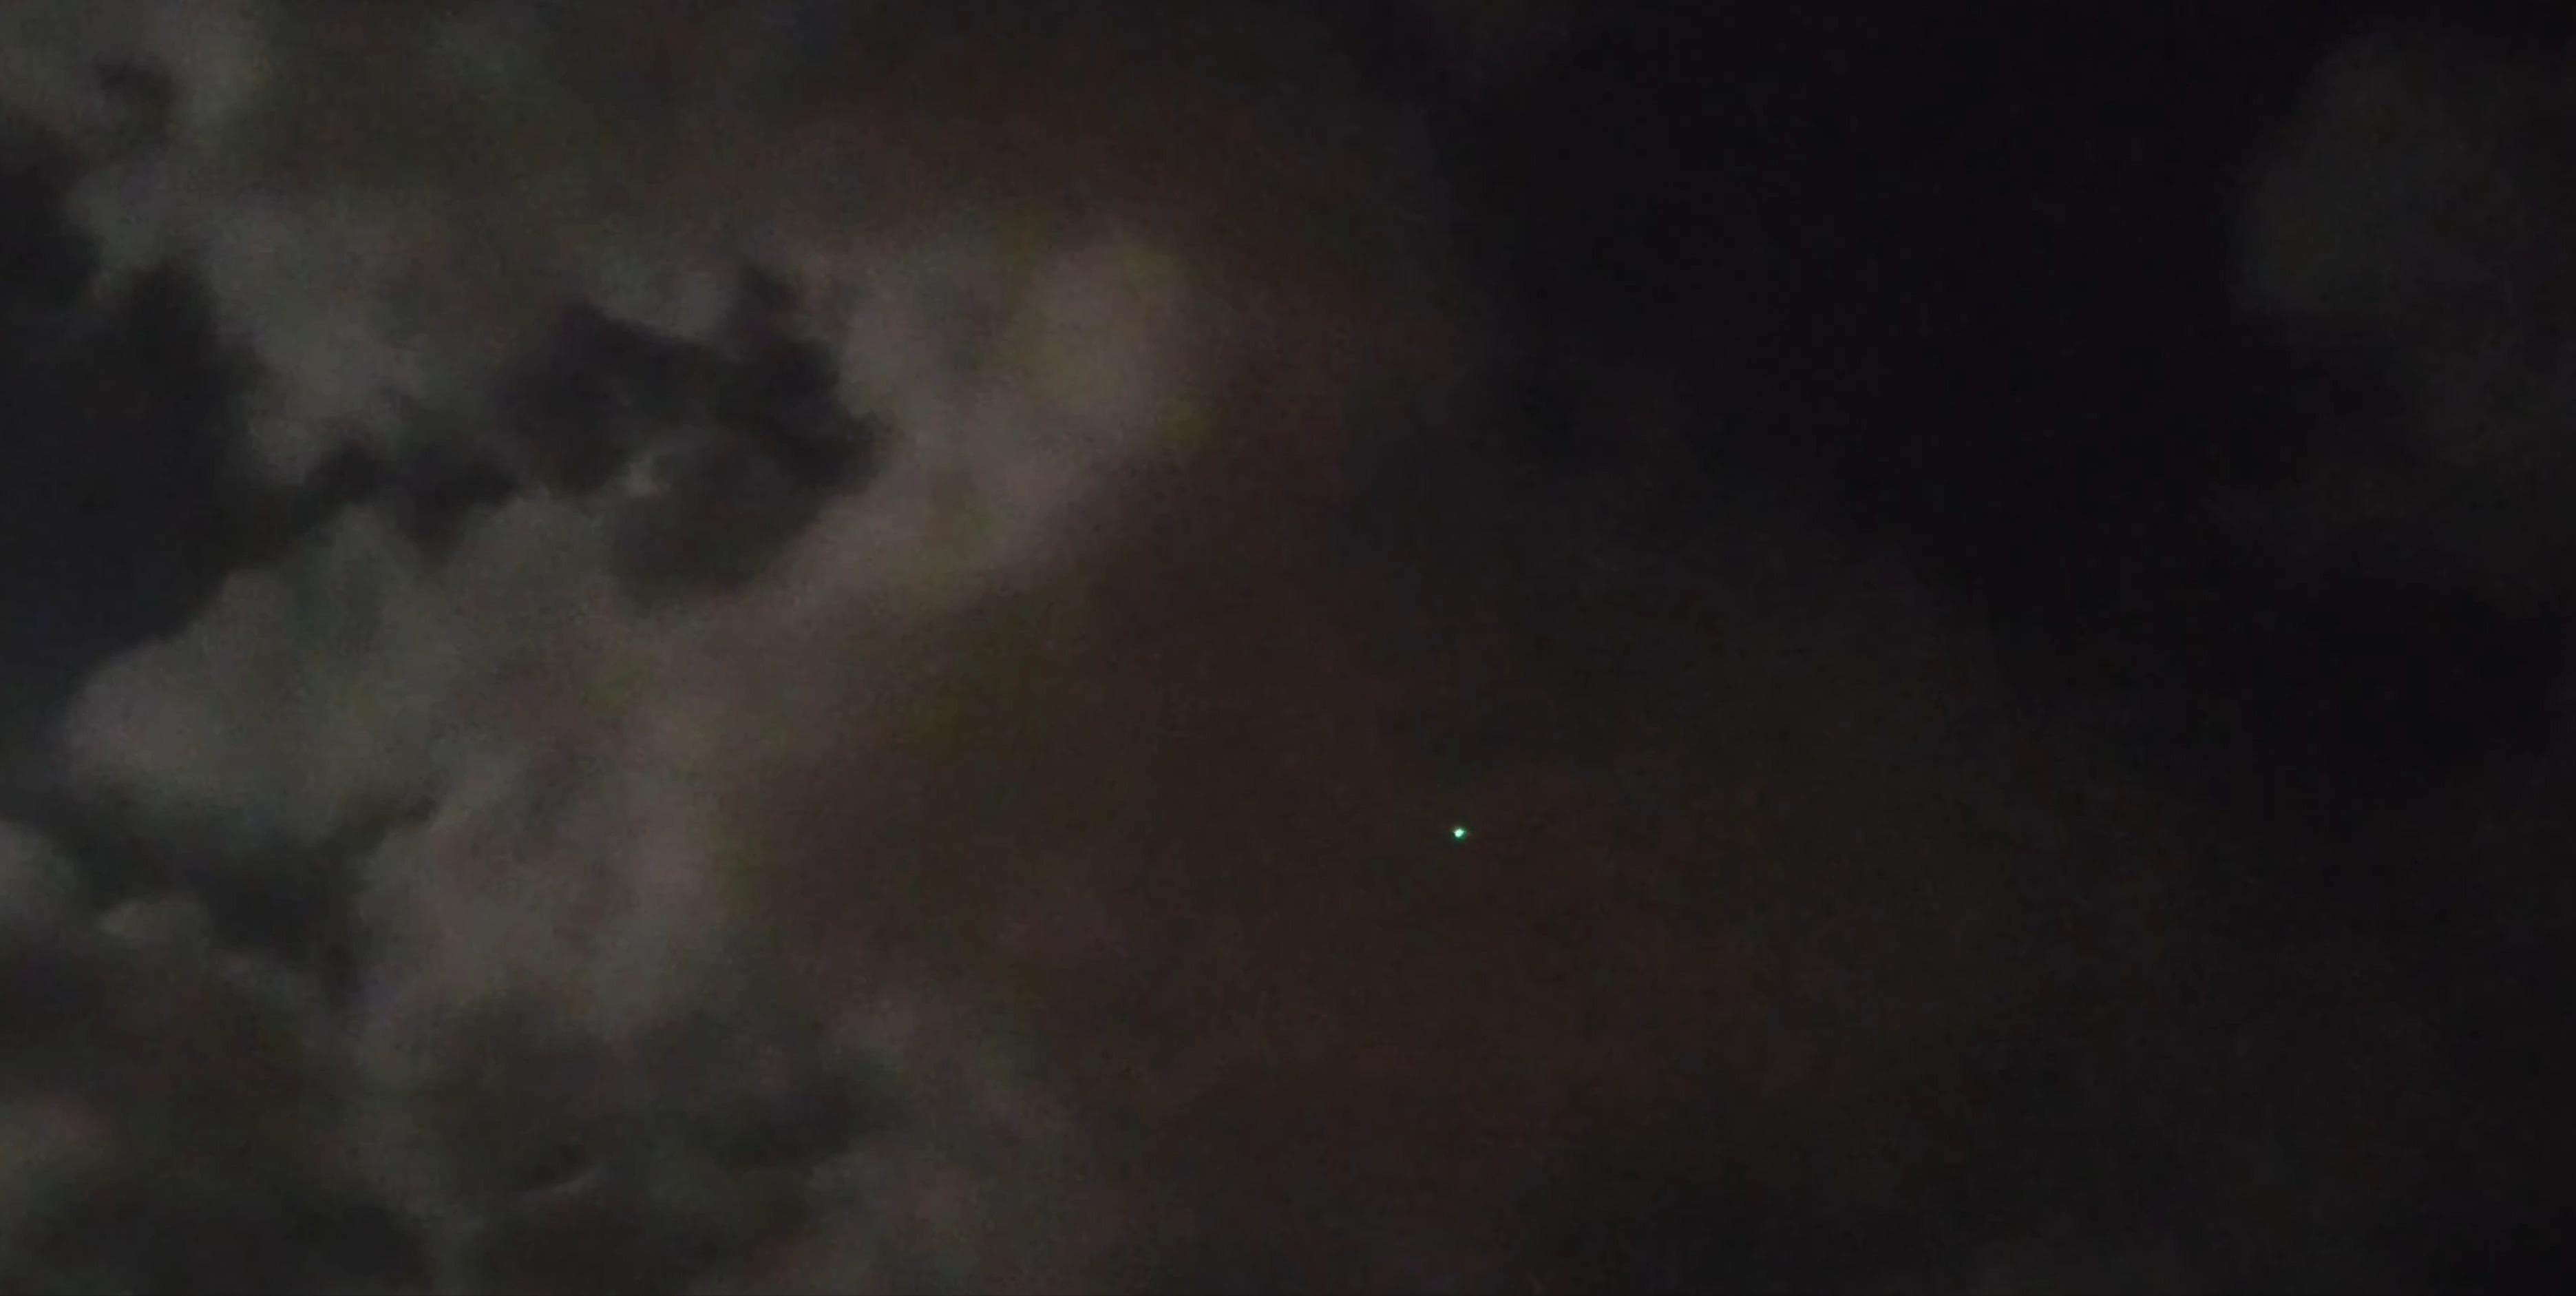Plane: (1441, 813, 1480, 860)
